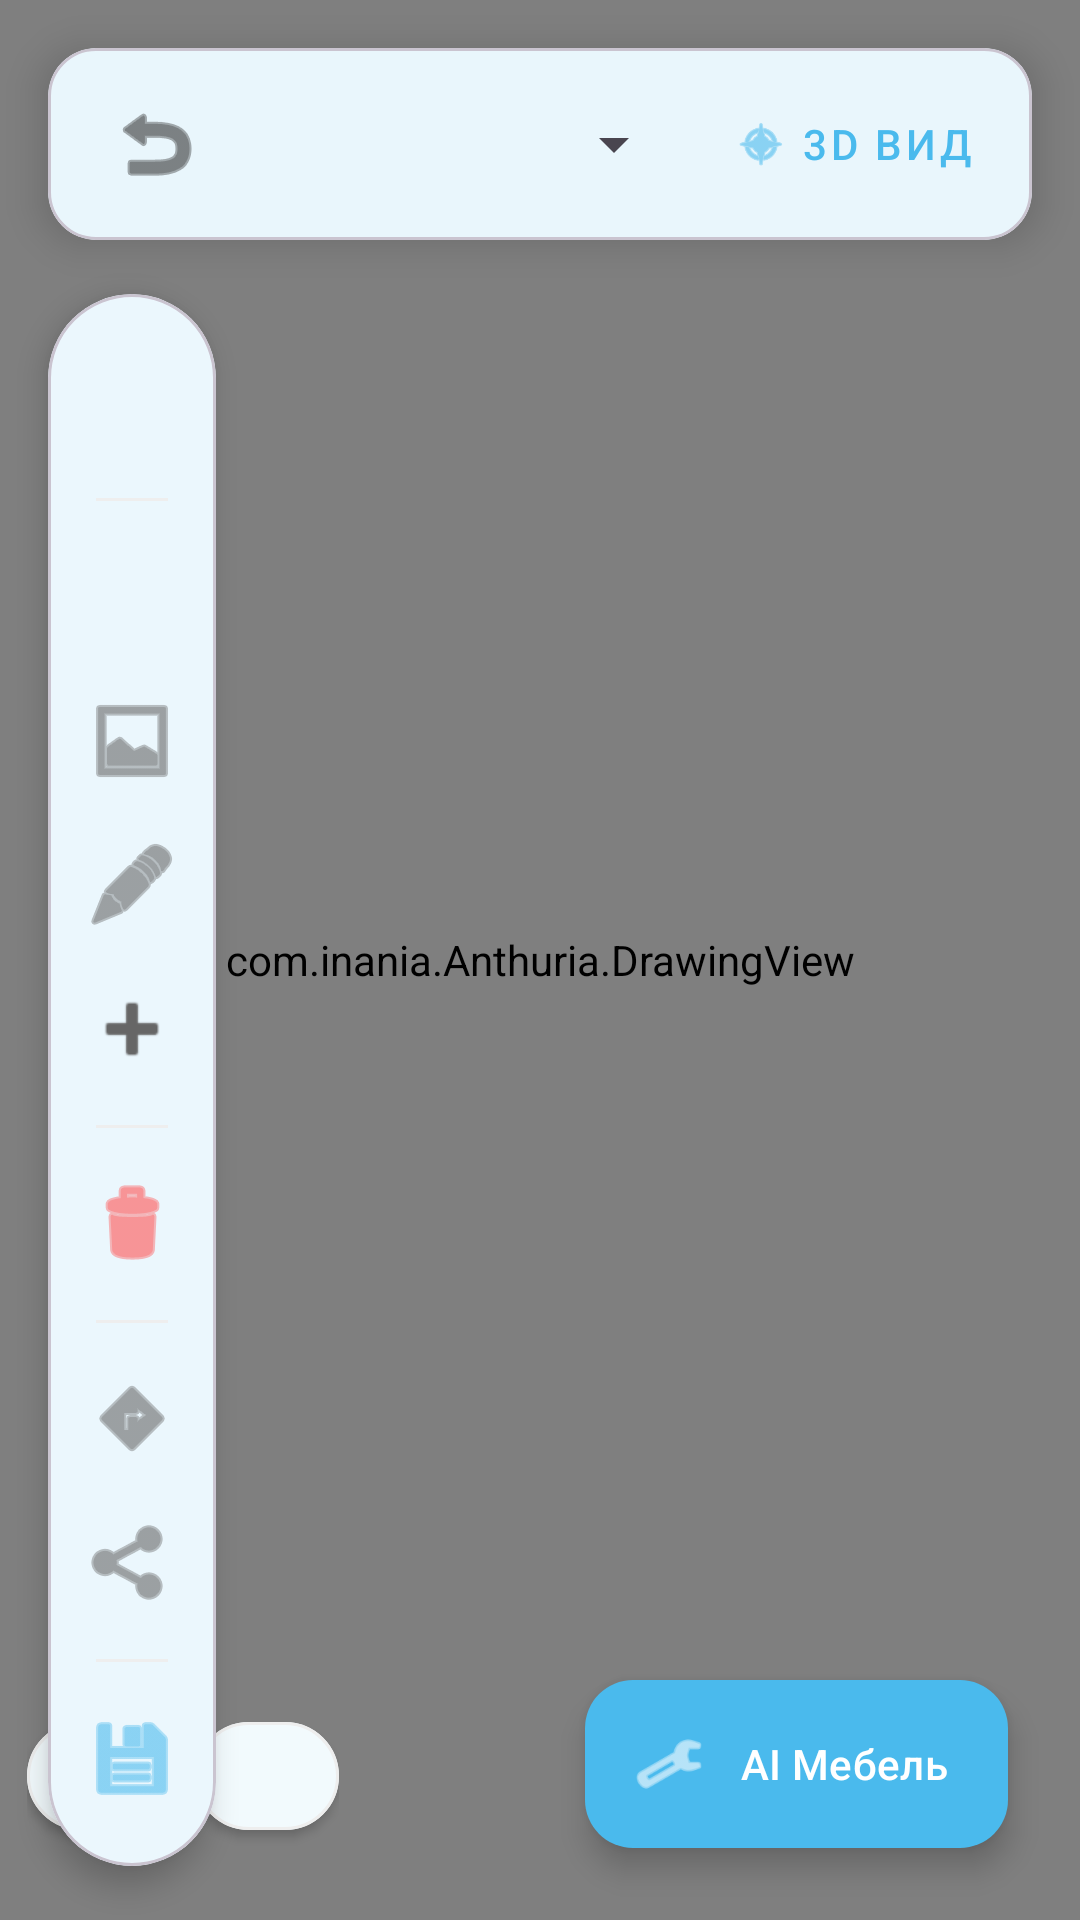

Icon click points for this 1080px x 1920px phone screenshot, format point (x, y):
add: point (132, 1029)
delete: point (132, 1222)
edit: point (131, 884)
gallery: point (132, 741)
Share blueprint: point (127, 1562)
